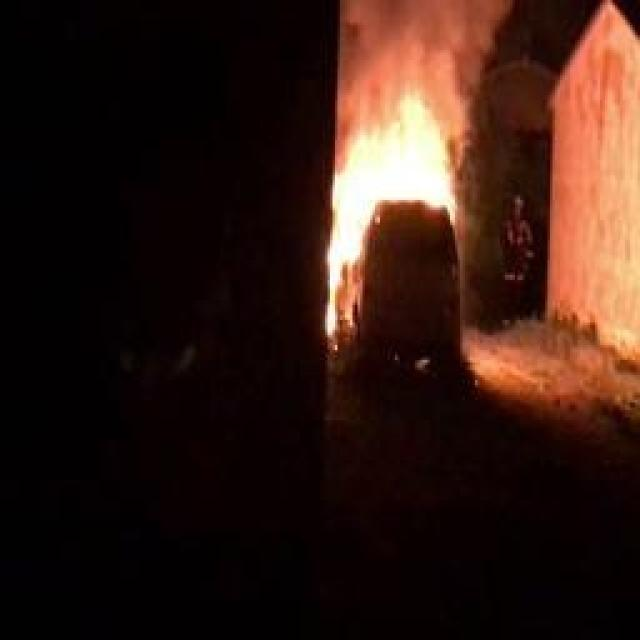fire: (305, 11, 505, 314)
